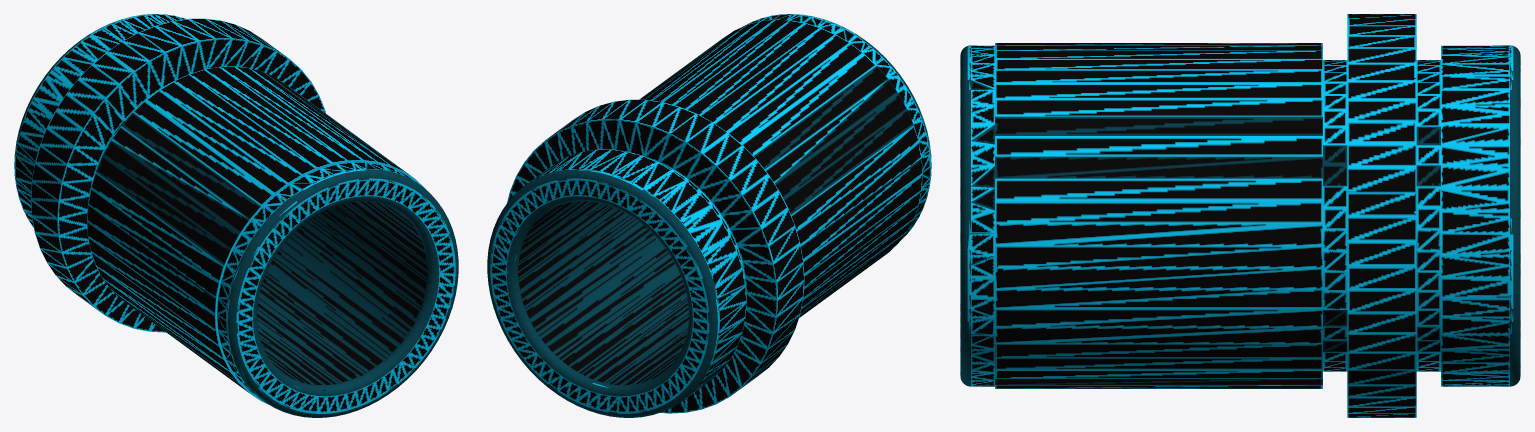
Rendered from Mold1-Guide Ring-M.glb.
The picture shows the model from 3 angles, left to right: view 1: azimuth 30°, elevation 25°; view 2: azimuth 150°, elevation 25°; view 3: azimuth 270°, elevation 25°; orthographic projection. The views are drawn at different scales.
Parts seen in each view (by area): view 1: bague de guidage.001; view 2: bague de guidage.001; view 3: bague de guidage.001.
Part boxes in pixels (x1,y1,x2,y2): bague de guidage.001: (14,14,458,417); bague de guidage.001: (487,14,931,417); bague de guidage.001: (960,14,1520,417).
Size of the model in its own units: 0.8235 by 0.8239 by 1.14.
1 material, 1 textured.
